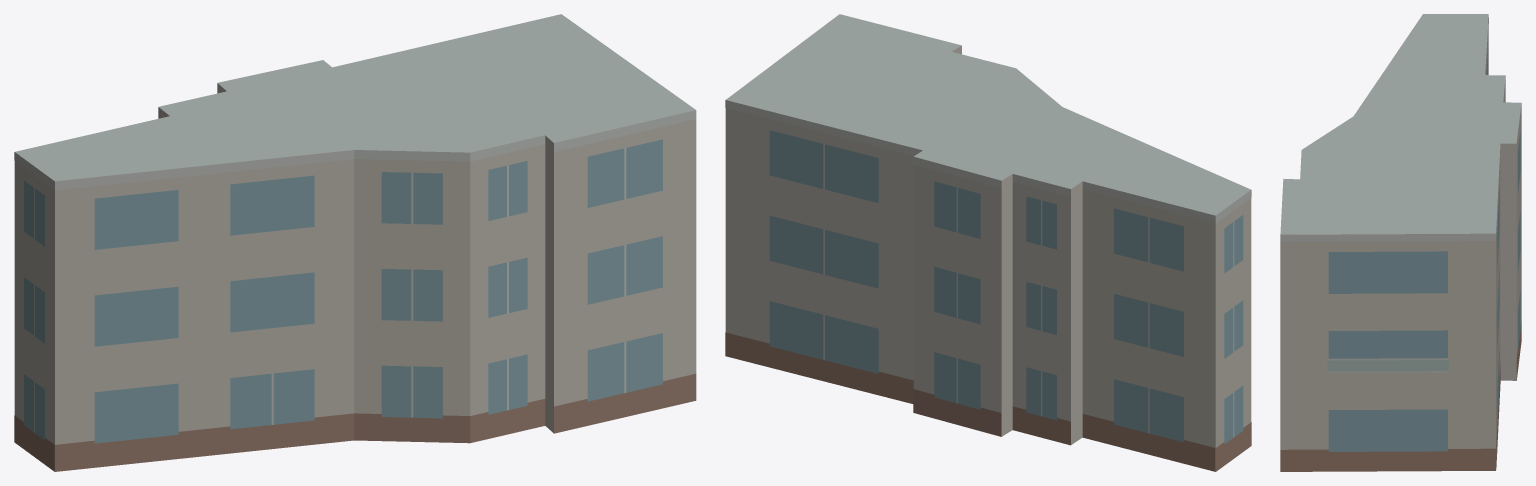
File: survey-upis-33004674.glb
3 views of the same model, side by side, from view 1: azimuth 30°, elevation 25°; view 2: azimuth 150°, elevation 25°; view 3: azimuth 270°, elevation 25° (orthographic). The views are drawn at different scales.
Visible parts, largest first — view 1: survey-upis-33004674.tmp; view 2: survey-upis-33004674.tmp; view 3: survey-upis-33004674.tmp.
Part boxes in pixels (x1,y1,x2,y2): survey-upis-33004674.tmp: (14,14,696,471); survey-upis-33004674.tmp: (725,14,1251,471); survey-upis-33004674.tmp: (1280,14,1521,471).
Size of the model in its own units: 15.8 by 7.9 by 7.29.
